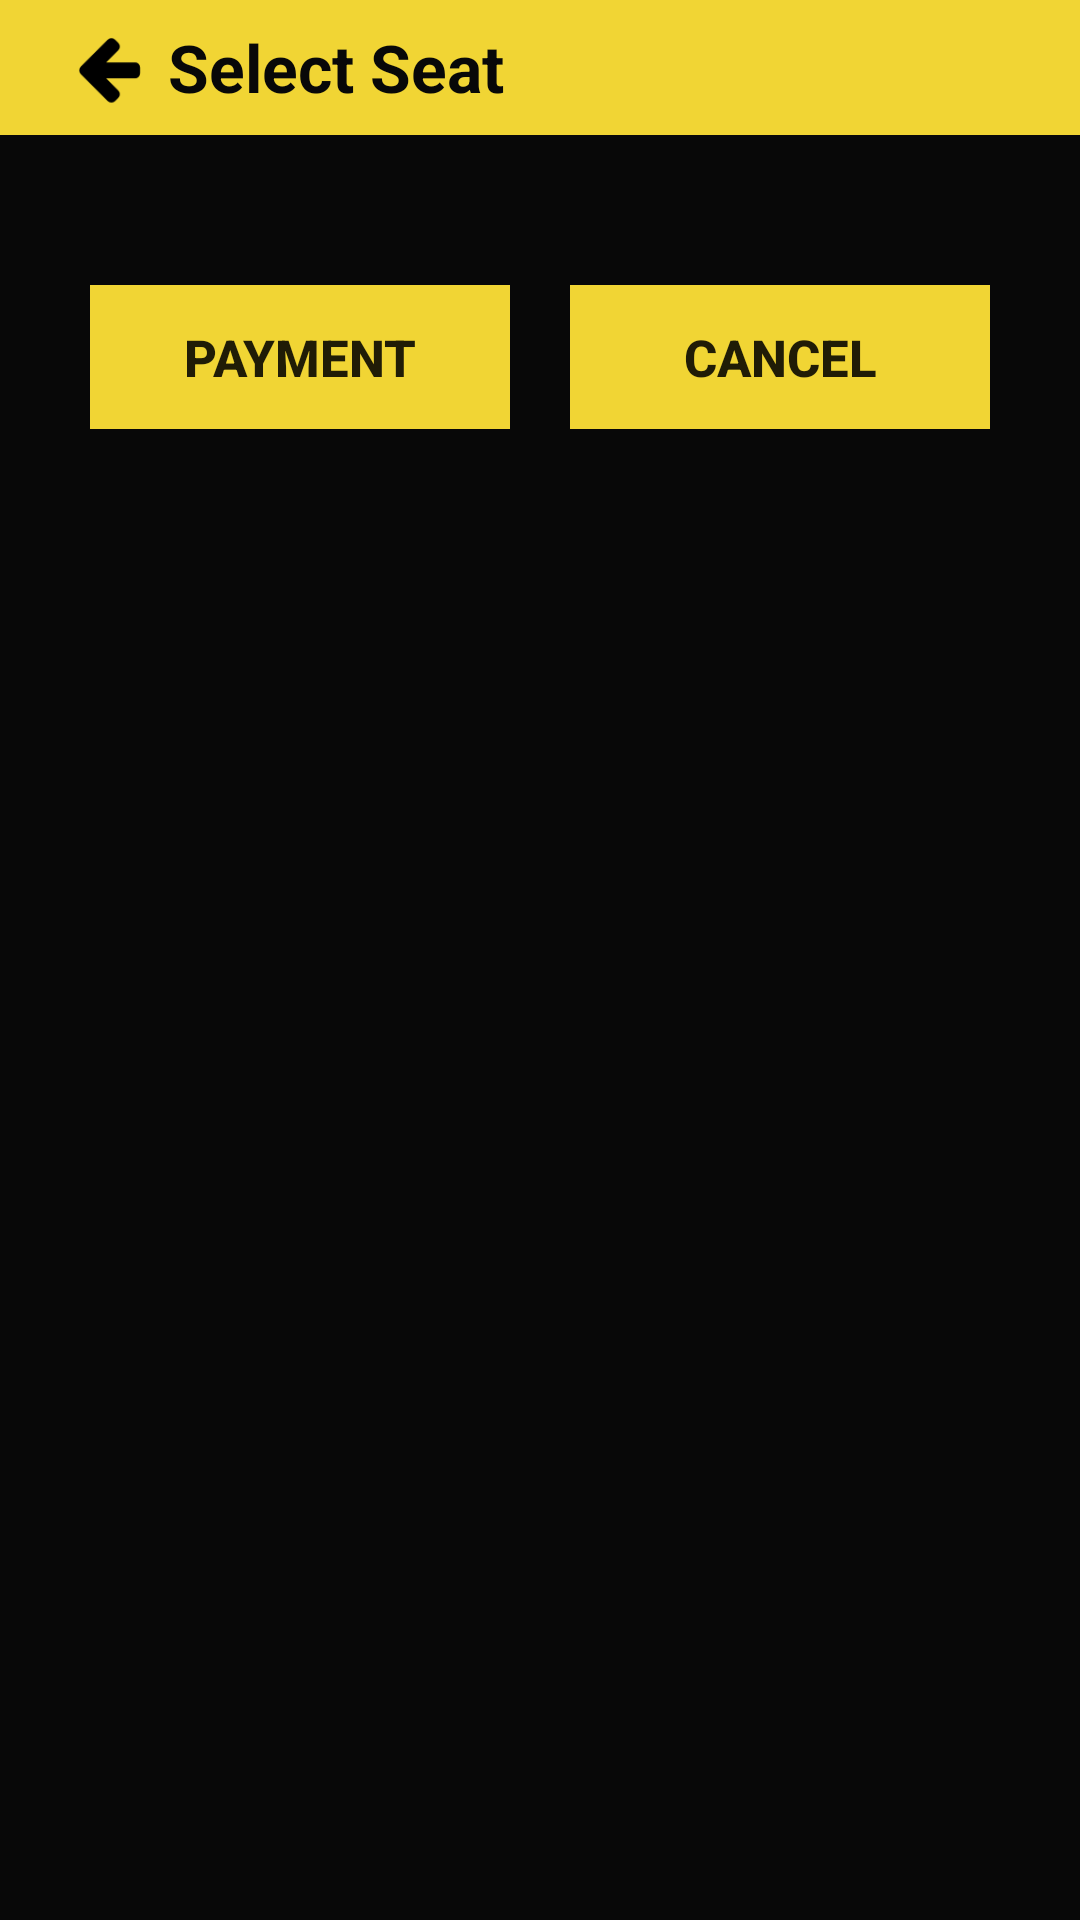

Point at icon controls on the screen. Image size 1080x1920, points as point (x, y).
back: point (110, 70)
